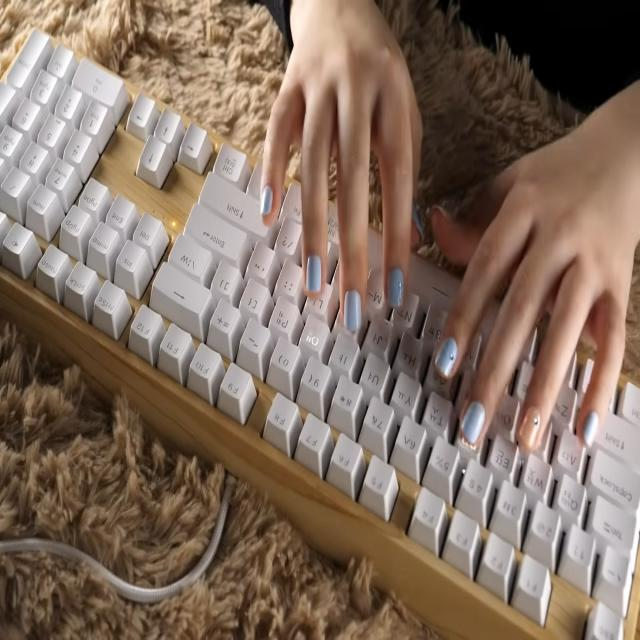keyboard-with-hands: (0, 24, 640, 640)
